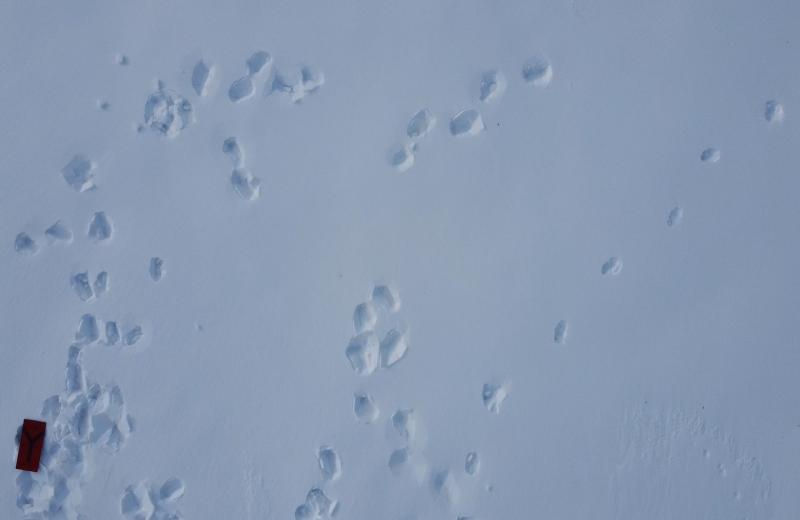Rectangle: (15, 417, 50, 474)
